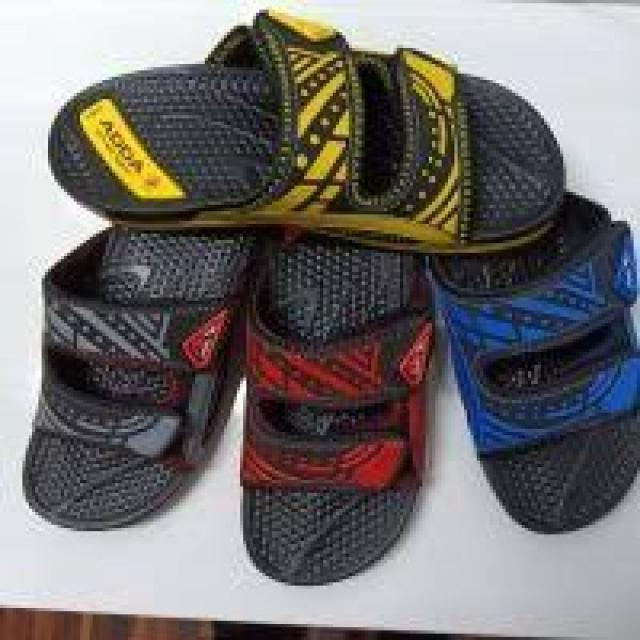shoe: (16, 9, 640, 590), (44, 13, 573, 255), (428, 197, 640, 535), (19, 223, 242, 534), (237, 237, 421, 588)
